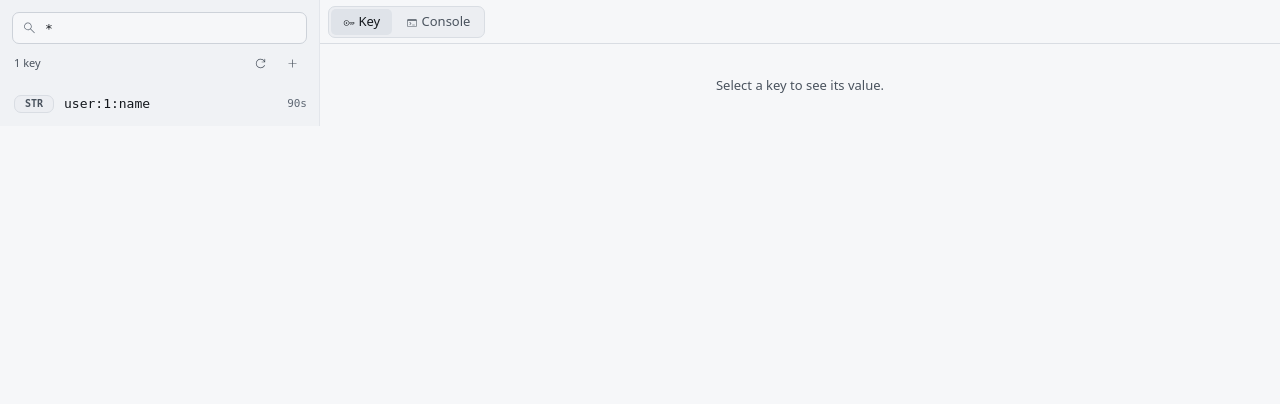
Test: RedisView › opening keys › reads a string key and shows its value, size and expiry
What coordinates should you click on to do the following:
click the option "STR user:1:name 90s"
I would click on:
 (34, 104)
Its box is left=6, top=90, right=313, bottom=118.
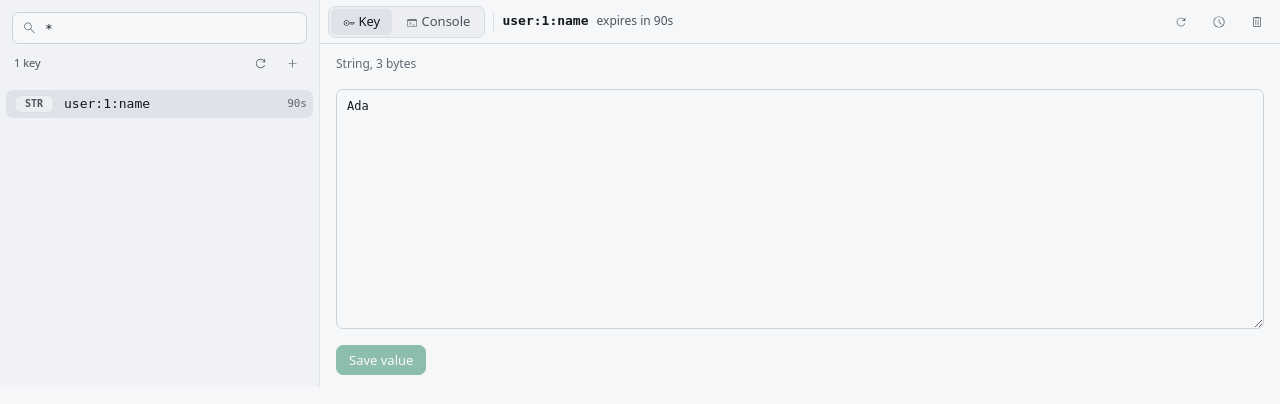
Result: the text box named "Value" holds "Ada" at left=336, top=89, right=1264, bottom=329
Result: the text "String, 3 bytes" is shown at left=336, top=55, right=416, bottom=72
Result: the text "expires in 90s" is shown at left=596, top=13, right=673, bottom=30
